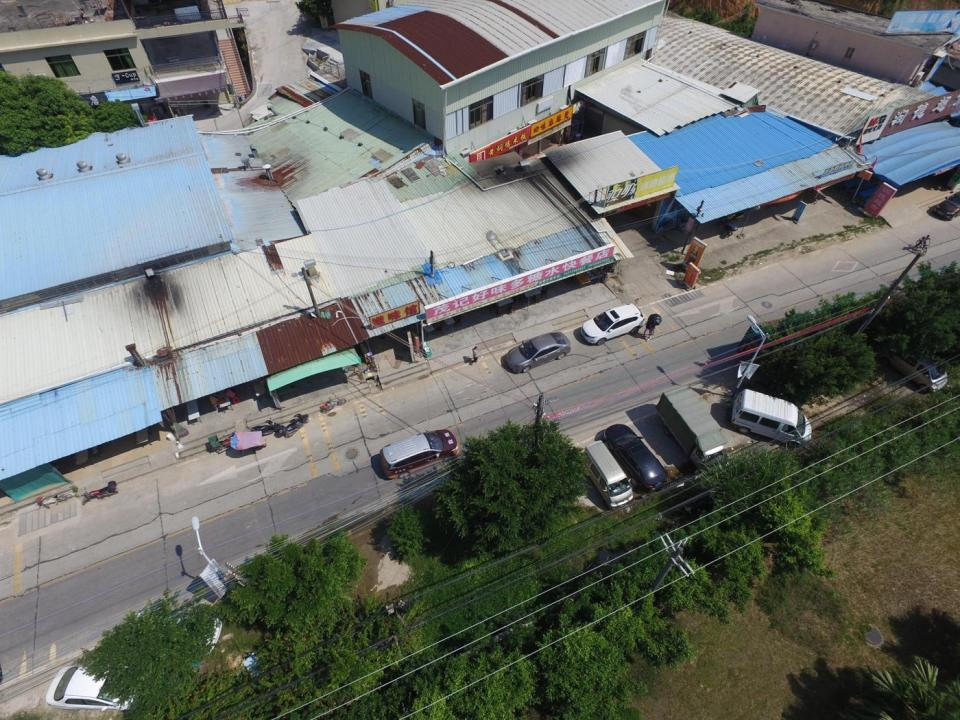bus: (731, 388, 811, 448)
car: (47, 665, 144, 711), (602, 424, 667, 490), (137, 611, 222, 655), (878, 345, 948, 393), (580, 303, 645, 345), (506, 332, 571, 374), (932, 191, 960, 220)
truck: (656, 384, 728, 472)
van: (379, 430, 460, 480), (584, 440, 633, 509)
